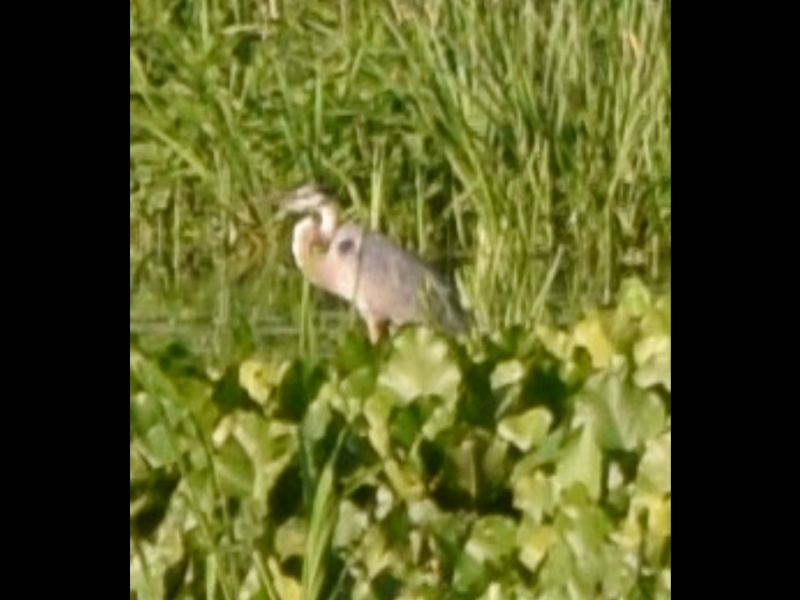heron: (264, 191, 457, 350)
